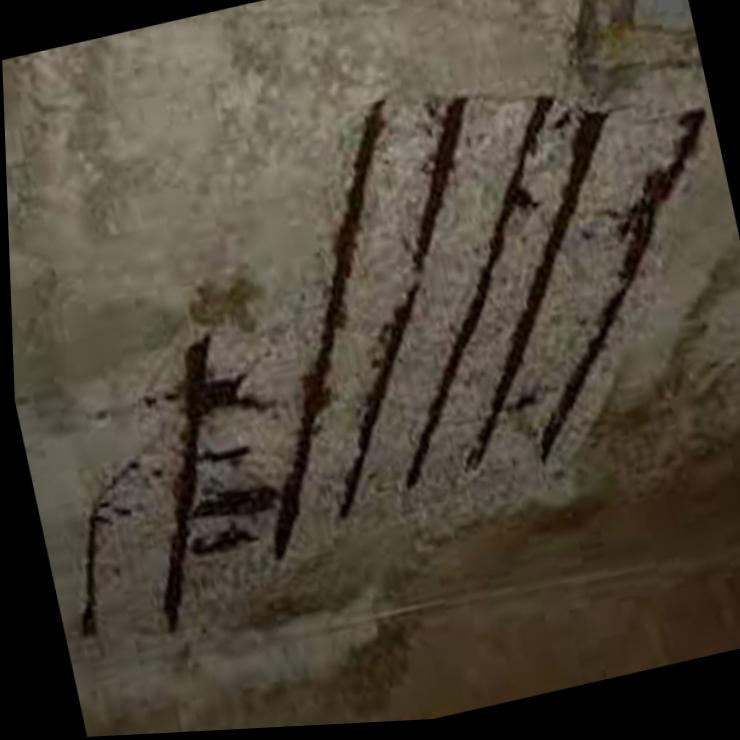damage: (77, 95, 706, 640)
